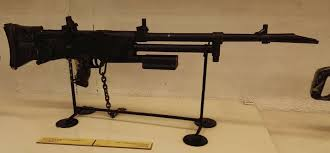gun: (1, 13, 319, 94)
